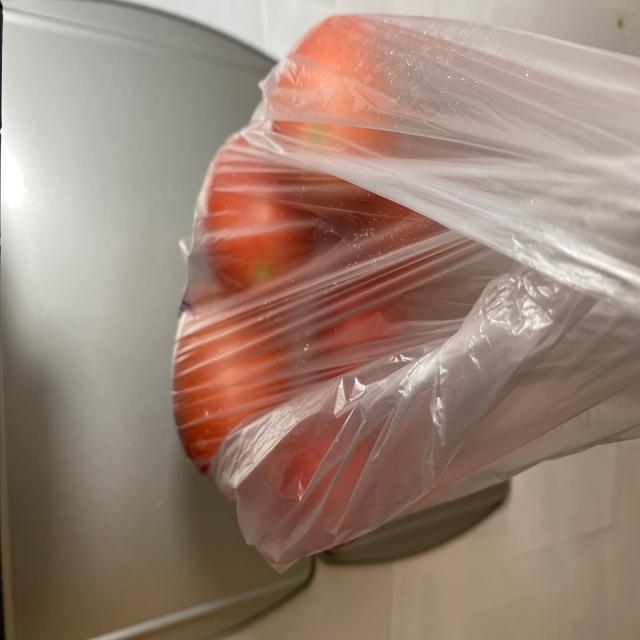tomato: (170, 23, 441, 561)
